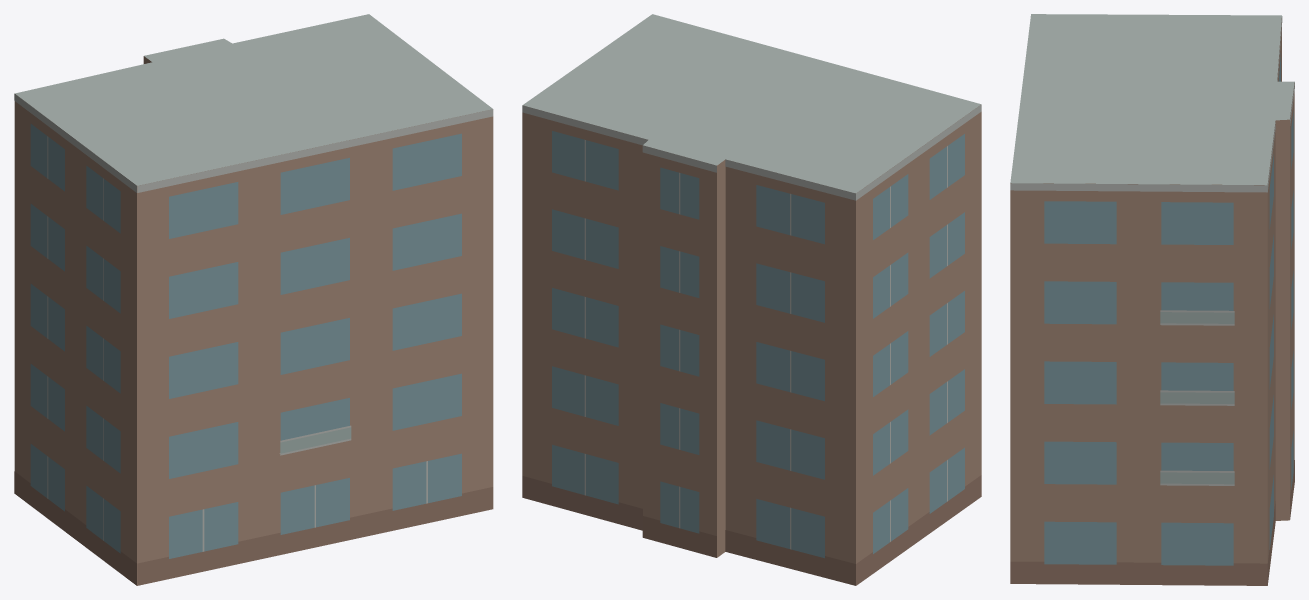
The model's file is survey-upis-32861888.glb.
3 views of the same model, side by side, from view 1: azimuth 30°, elevation 25°; view 2: azimuth 150°, elevation 25°; view 3: azimuth 270°, elevation 25° (orthographic). The views are drawn at different scales.
Visible parts, largest first — view 1: survey-upis-32861888.tmp; view 2: survey-upis-32861888.tmp; view 3: survey-upis-32861888.tmp.
Part boxes in pixels (x1=…): survey-upis-32861888.tmp: x1=14, y1=14, x2=493, y2=585; survey-upis-32861888.tmp: x1=522, y1=14, x2=981, y2=585; survey-upis-32861888.tmp: x1=1010, y1=14, x2=1294, y2=585.
Bounding box in the file's own units: 12.21 × 13.3 × 8.56.
